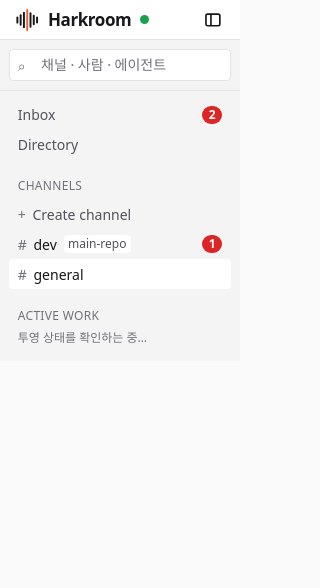
Test: Sidebar › 채널 편집 (admin 전용) › 실패하면 사용자에게 오류가 보인다
The image size is (320, 588).
Step 1. Right-click the button "# general" → point(120, 274), box left=9, top=259, right=231, bottom=289
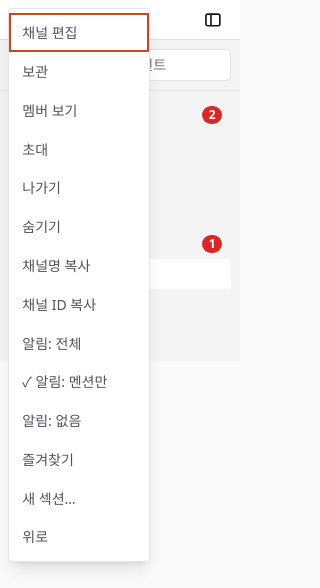
Step 2. Click the menu item "채널 편집" → point(79, 33), box left=9, top=13, right=149, bottom=52
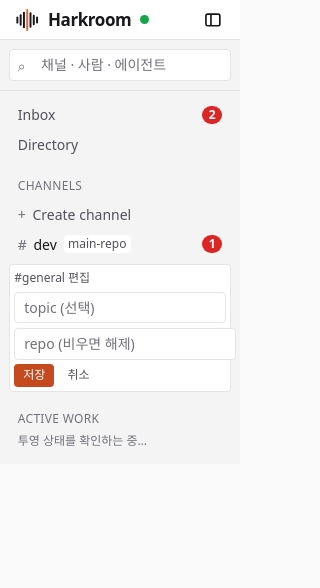
Step 3. Click the button "저장" → point(34, 375), box left=14, top=364, right=54, bottom=387
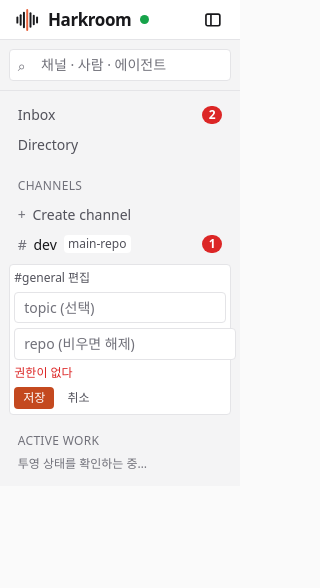
expect the message reads "권한이 없다": met, box left=14, top=364, right=73, bottom=381
